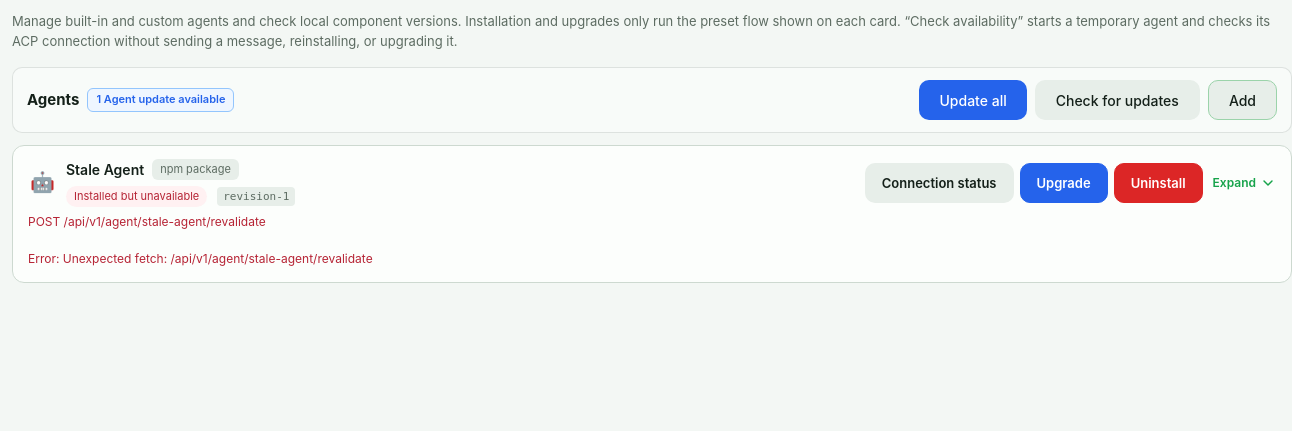
AgentInstallSettings batch upgrades › clears stale update candidates when the forced refresh after a batch fails
What coordinates should you click on to do the following:
click the button with test id "agent-upgrade-all-button"
I would click on:
 (973, 100)
Its box is top-left (920, 80), bottom-right (1027, 120).
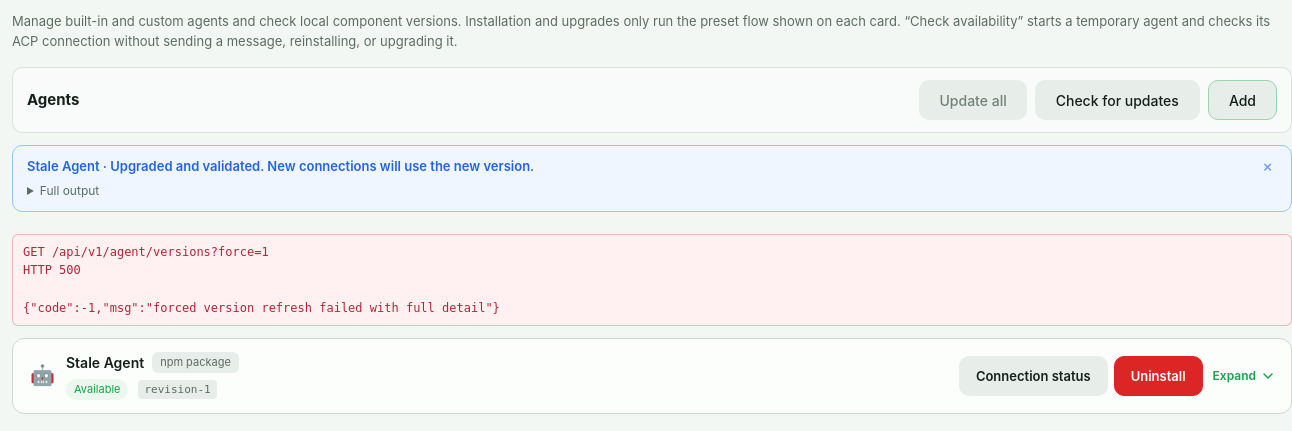
Now the button with test id "agent-upgrade-all-button" is disabled, box top-left (920, 80), bottom-right (1027, 120)
Now the button with test id "agent-upgrade-button" is gone
Now the text "1 Agent update available" is gone
